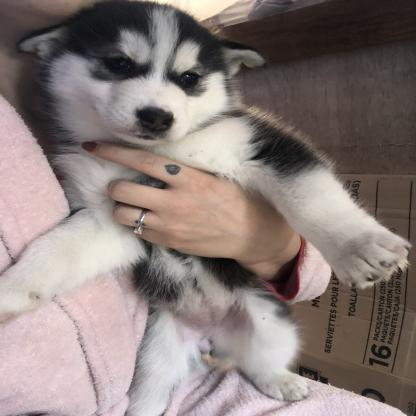dog: (0, 0, 405, 410)
